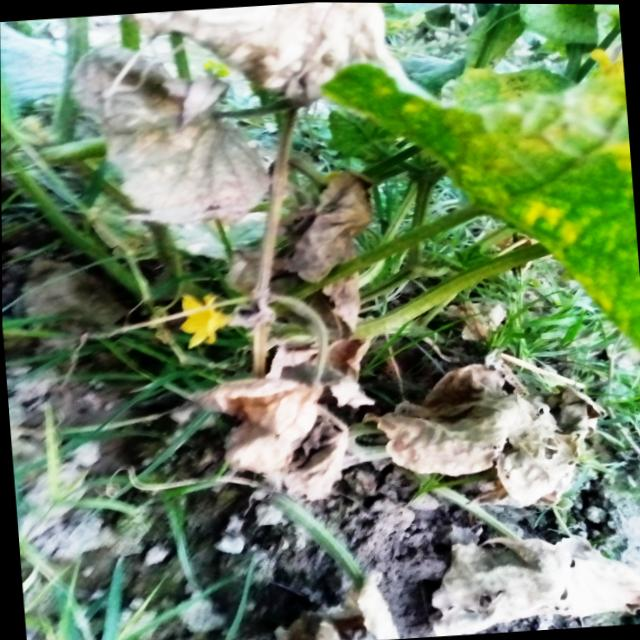Bacterial-Wilt: (66, 41, 274, 225), (425, 524, 640, 637), (193, 368, 353, 509)
